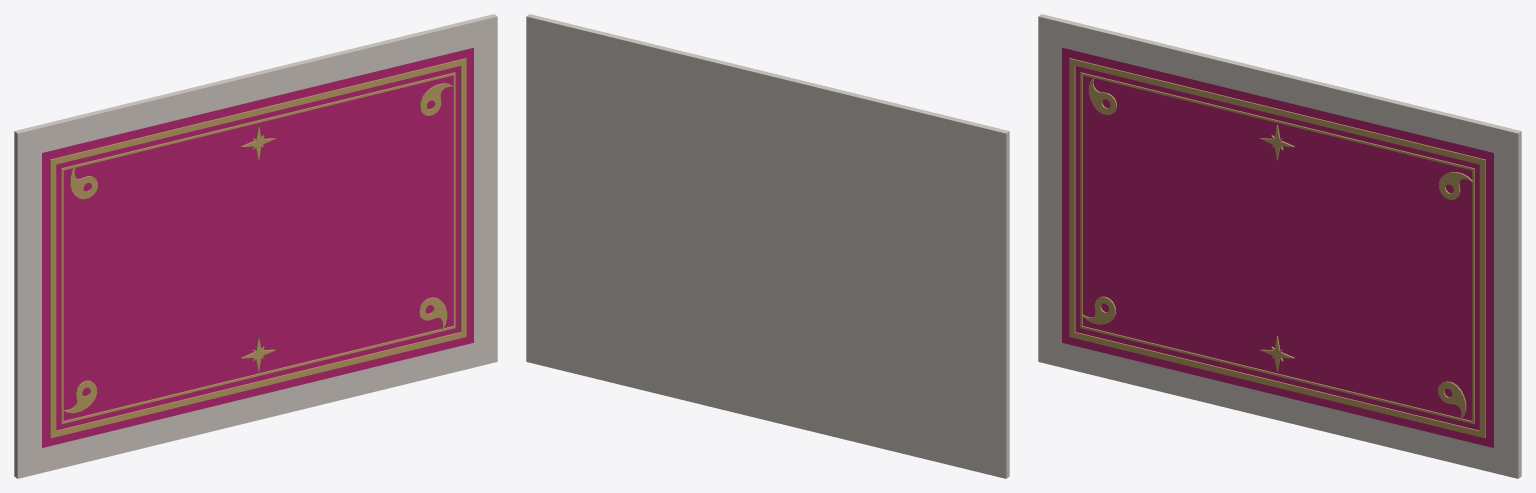
File: diwali-card.glb
3 renders of one model, left to right at view 1: azimuth 30°, elevation 25°; view 2: azimuth 150°, elevation 25°; view 3: azimuth 330°, elevation 25°, orthographic.
Parts seen in each view (by area): view 1: Panel, Card, Foil; view 2: Card; view 3: Panel, Card, Foil.
Boxes of the visible parts, x1,y1,x2,y2 form: Panel: (42,47,473,447); Card: (14,14,497,478); Foil: (50,58,466,438); Card: (526,14,1009,478); Panel: (1062,47,1493,447); Card: (1038,14,1521,478); Foil: (1069,58,1485,438).
Bounding box in the file's own units: 0.24 × 0.165 × 0.0041.
